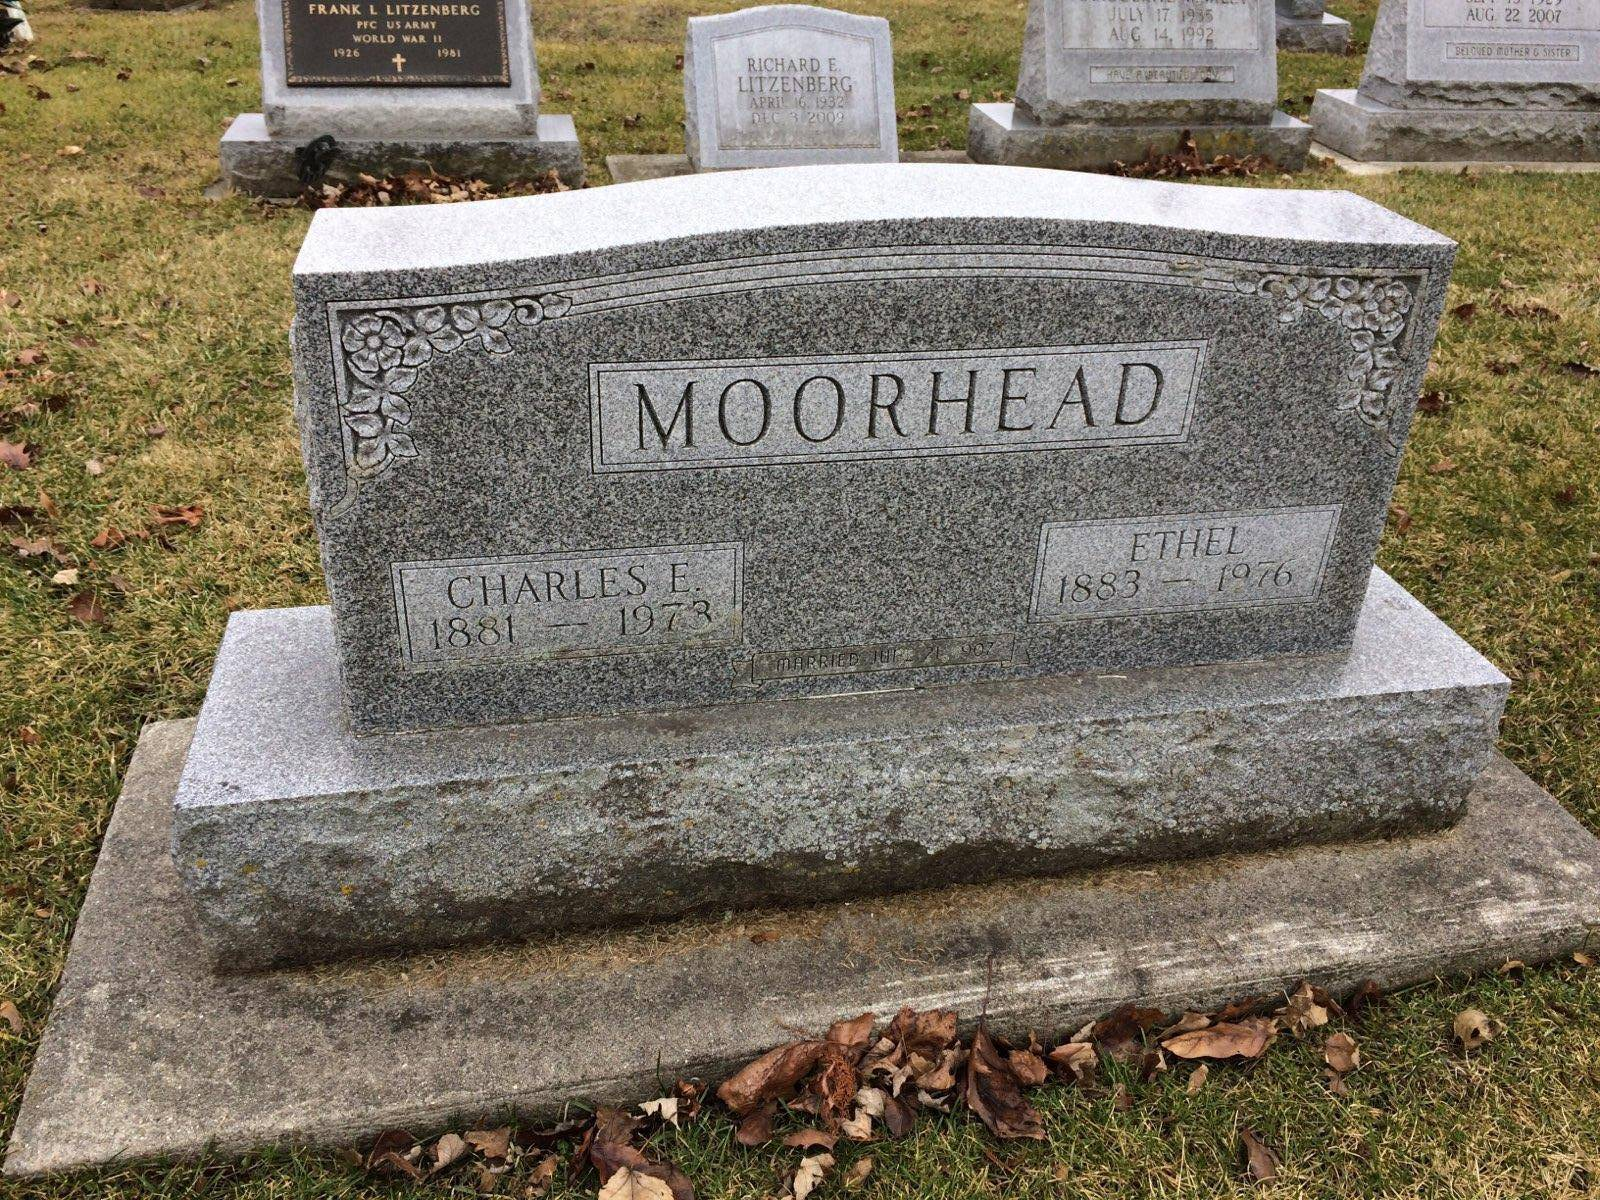upright: (170, 169, 1507, 981)
